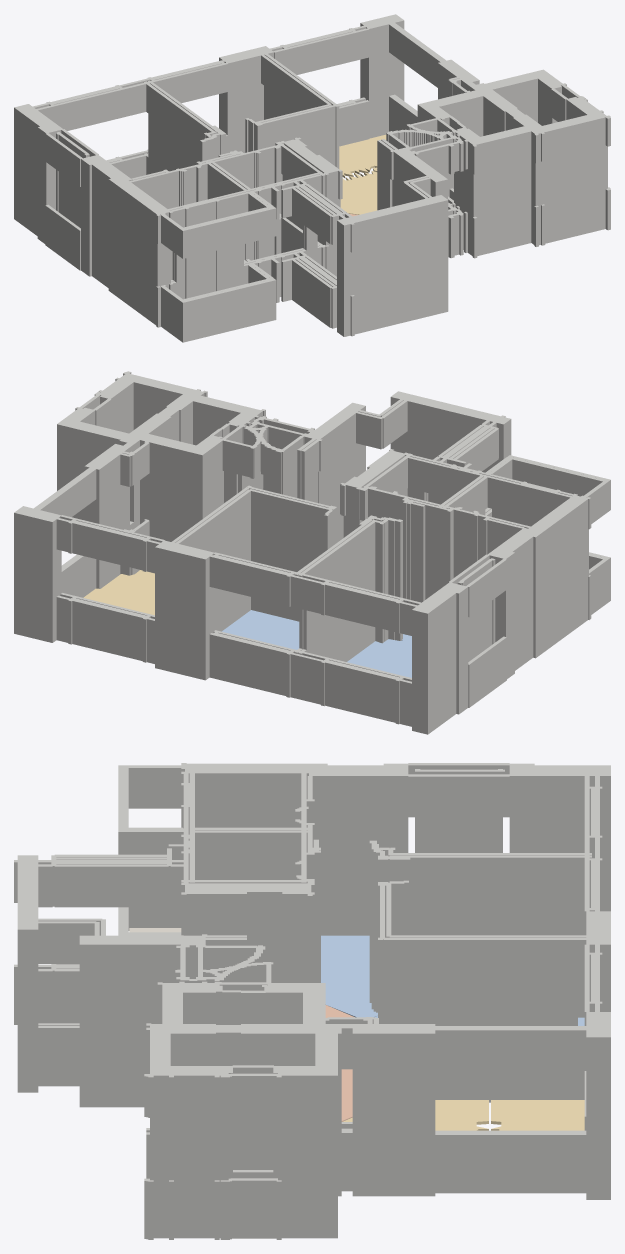
3 renders of one model, top to bottom at view 1: azimuth 30°, elevation 25°; view 2: azimuth 150°, elevation 25°; view 3: azimuth 270°, elevation 25°, orthographic. The views are drawn at different scales.
Visible parts, largest first — view 1: walls, room:living:3, room:living:2; view 2: walls, room:living:3, room:bedroom:9, room:bedroom:12; view 3: walls, room:bedroom:12, room:living:2, room:living:3, room:kitchen:5.
Part boxes in pixels (x1=…): walls: x1=14, y1=14, x2=610, y2=342; room:living:3: x1=340, y1=171, x2=377, y2=214; room:living:2: x1=339, y1=134, x2=386, y2=177; walls: x1=14, y1=371, x2=610, y2=734; room:living:3: x1=83, y1=570, x2=154, y2=615; room:bedroom:9: x1=222, y1=610, x2=299, y2=649; room:bedroom:12: x1=347, y1=634, x2=411, y2=677; walls: x1=14, y1=763, x2=610, y2=1239; room:bedroom:12: x1=321, y1=935, x2=377, y2=1017; room:living:2: x1=491, y1=1100, x2=584, y2=1130; room:living:3: x1=342, y1=1100, x2=488, y2=1130; room:kitchen:5: x1=325, y1=1005, x2=354, y2=1121.
Size of the model in its own units: 11.59 by 2.8 by 9.31.
